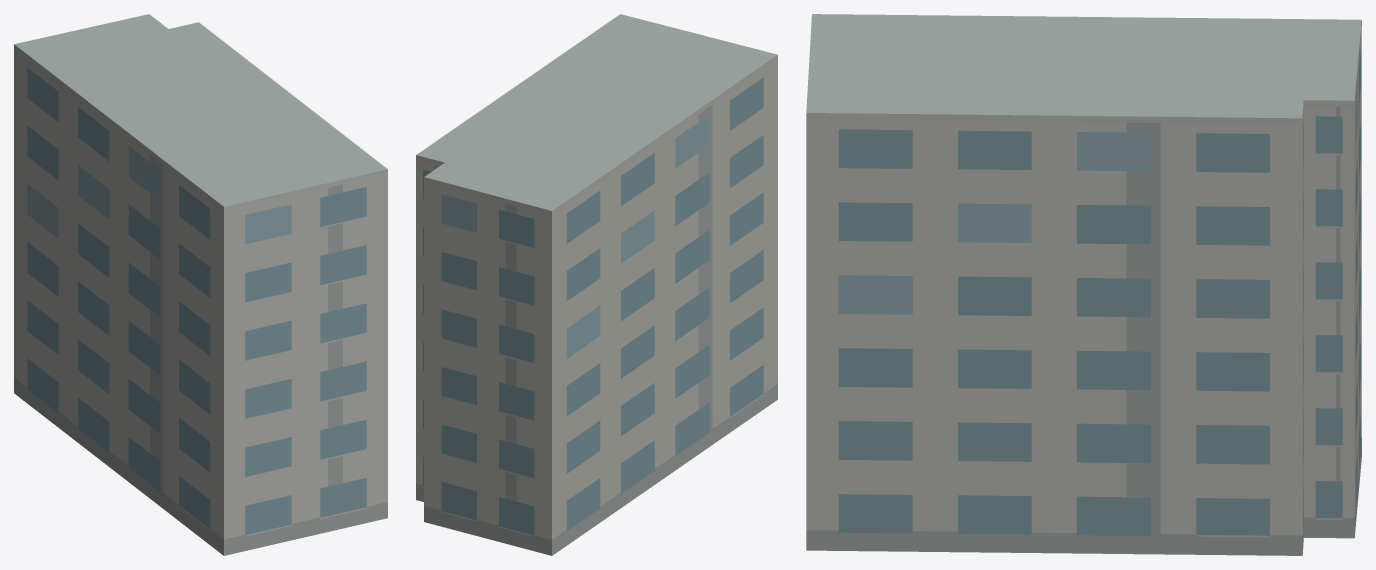
Rendered from survey-upis-32992087.glb.
3 renders of one model, left to right at view 1: azimuth 30°, elevation 25°; view 2: azimuth 150°, elevation 25°; view 3: azimuth 270°, elevation 25°, orthographic. The views are drawn at different scales.
Parts seen in each view (by area): view 1: survey-upis-32992087.tmp; view 2: survey-upis-32992087.tmp; view 3: survey-upis-32992087.tmp.
Boxes of the visible parts, box(x1,y1,x2,y2) form: survey-upis-32992087.tmp: box(14, 14, 387, 555); survey-upis-32992087.tmp: box(416, 14, 777, 555); survey-upis-32992087.tmp: box(806, 14, 1361, 555).
Bounding box in the file's own units: 8.75 × 17.1 × 19.68.
